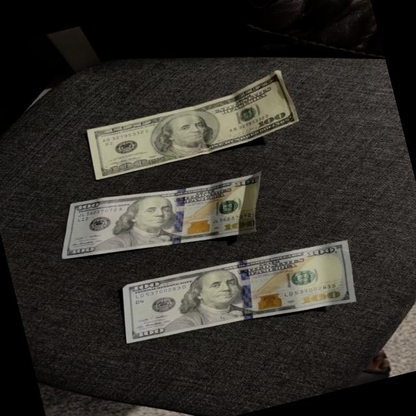one_hundred-front: (120, 235, 358, 346), (87, 67, 300, 180), (60, 171, 263, 261)
